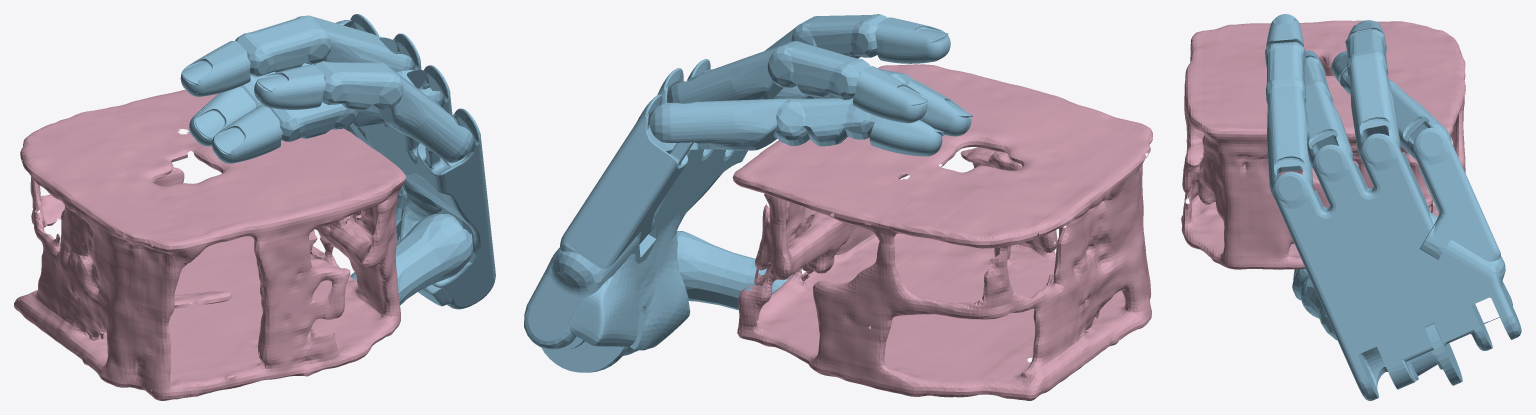
3 views of the same model, side by side, from view 1: azimuth 30°, elevation 25°; view 2: azimuth 150°, elevation 25°; view 3: azimuth 270°, elevation 25° (orthographic). The views are drawn at different scales.
Visible parts, largest first — view 1: world, hand_isaac_q; view 2: world, hand_isaac_q; view 3: hand_isaac_q, world.
Part boxes in pixels (left/top/right/bottom): world: left=14, top=89, right=406, bottom=400; hand_isaac_q: left=180, top=14, right=495, bottom=309; world: left=732, top=64, right=1152, bottom=400; hand_isaac_q: left=524, top=14, right=972, bottom=372; hand_isaac_q: left=1265, top=14, right=1521, bottom=400; world: left=1181, top=20, right=1465, bottom=269.
Bounding box in the file's own units: 0.212 × 0.1423 × 0.1563.
